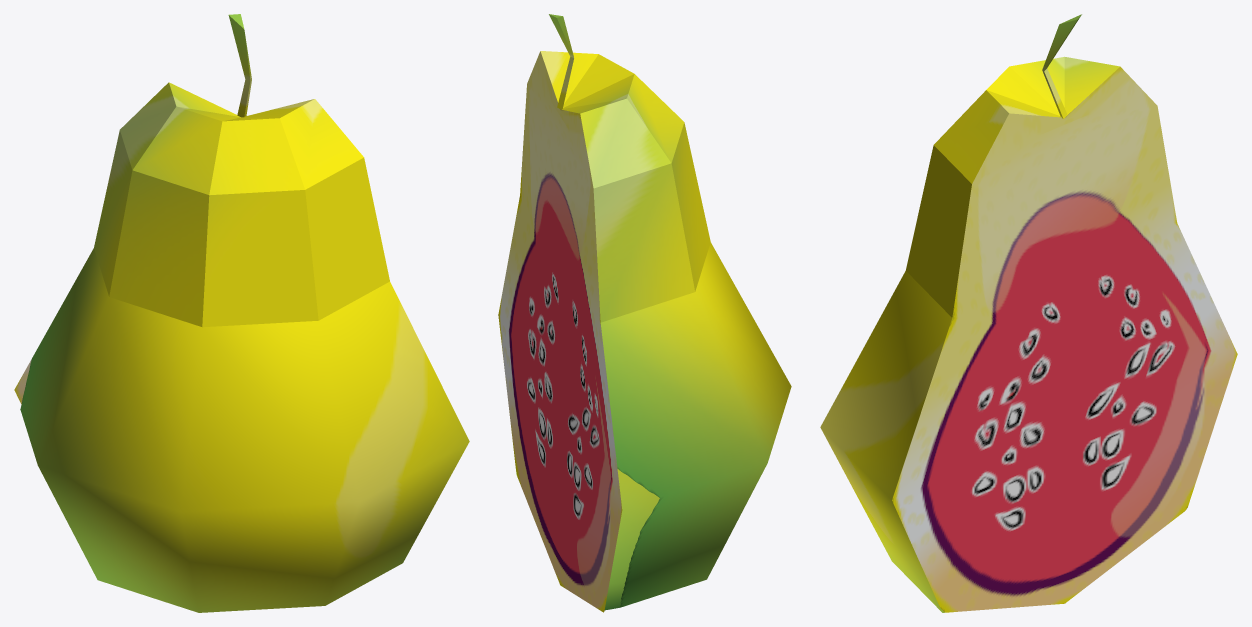
File: PearS.FBX
3 views of the same model, side by side, from view 1: azimuth 30°, elevation 25°; view 2: azimuth 150°, elevation 25°; view 3: azimuth 270°, elevation 25° (orthographic). The views are drawn at different scales.
Parts seen in each view (by area): view 1: pear Slice; view 2: pear Slice; view 3: pear Slice.
Part boxes in pixels (bbox=[...]): pear Slice: bbox=[14, 14, 469, 612]; pear Slice: bbox=[498, 14, 791, 612]; pear Slice: bbox=[820, 14, 1237, 612].
Bounding box in the file's own units: 6.23 × 9.68 × 6.23.
